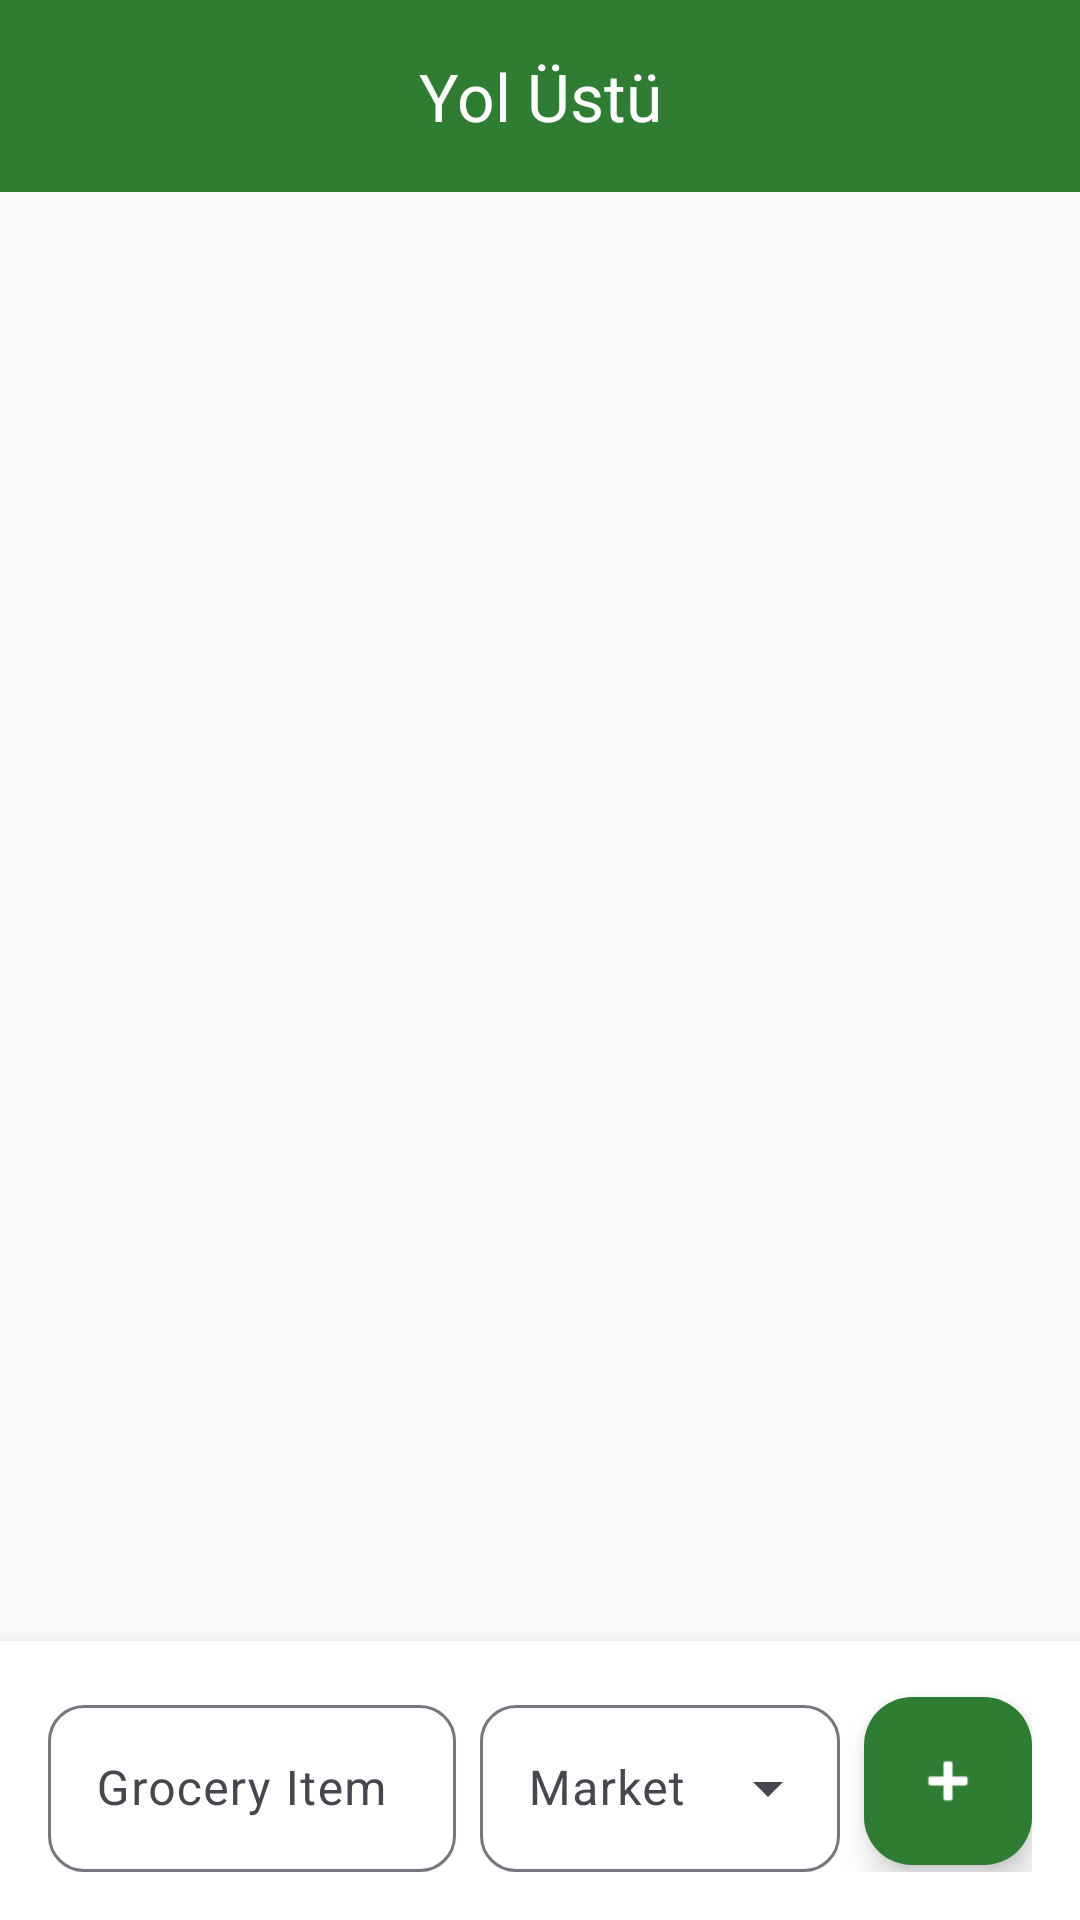

Where to tap for icons on this 1080×1920 app screen, as [x,y]:
Add Item: [948,1781]
